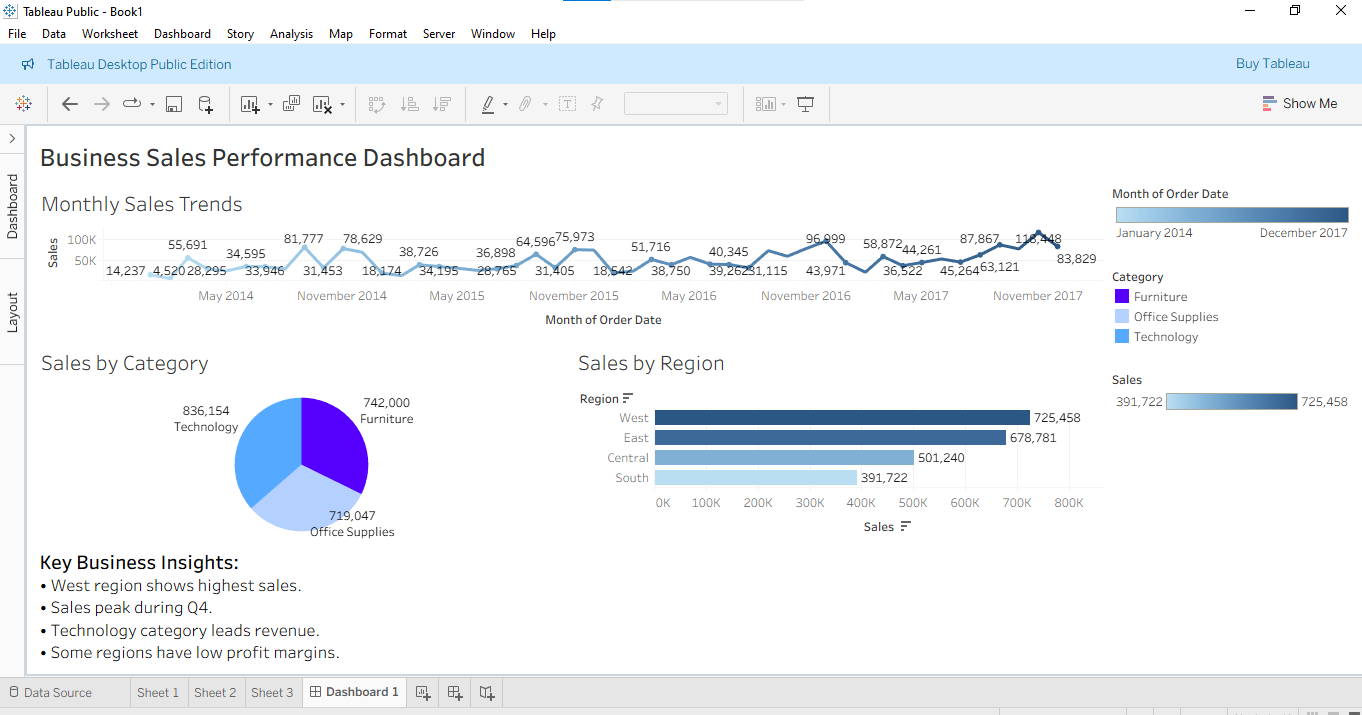

Layout of this report page (visuals, bound fields, positions):
{"tool":"tableau","page":{"name":"Dashboard 1","canvas":[1000,1000],"units":"permille","ordinal":0},"visuals":[{"type":"title","box":[6,14.5,988.1,88.8]},{"type":"worksheet","title":"Sheet 1","mark":"Automatic","rows":["Sales"],"cols":["Order Date"],"box":[6,103.3,802.2,288]},{"type":"legend","title":"Sheet 1","param":"[federated.0di5uyv04n8t4419ksq6q1uuumh9].[tmn:Order Date:qk]","box":[808.2,103.3,185.8,150.4]},{"type":"legend","title":"Sheet 3","param":"[federated.0di5uyv04n8t4419ksq6q1uuumh9].[none:Category:nk]","box":[808.2,253.6,185.8,186.6]},{"type":"worksheet","title":"Sheet 3","mark":"Pie","box":[6,391.3,401,373.6]},{"type":"worksheet","title":"Sheet 2","mark":"Automatic","rows":["Region"],"cols":["Sales"],"box":[407,391.3,401.2,373.6]},{"type":"legend","title":"Sheet 2","param":"[federated.0di5uyv04n8t4419ksq6q1uuumh9].[sum:Sales:qk]","box":[808.2,440.2,185.8,134.1]},{"type":"text","box":[6,764.9,802.2,220.6]}]}

Visuals, with their boxes on the dashboard's canvas, which has no fixed pixel size, in thousandths of its width and height (x1, y1, x2, y2). These are canvas units, not pixel positions in the 1362x715 screenshot, which may show the page scaled, cropped or inside an application window:
title: bbox=(6, 14, 994, 103)
"Sheet 1" worksheet: bbox=(6, 103, 808, 391)
"Sheet 1" legend: bbox=(808, 103, 994, 254)
"Sheet 3" legend: bbox=(808, 254, 994, 440)
"Sheet 3" worksheet (Pie marks): bbox=(6, 391, 407, 765)
"Sheet 2" worksheet: bbox=(407, 391, 808, 765)
"Sheet 2" legend: bbox=(808, 440, 994, 574)
text: bbox=(6, 765, 808, 986)
